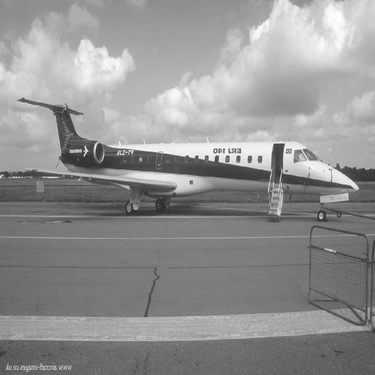airplane: (9, 83, 367, 230)
